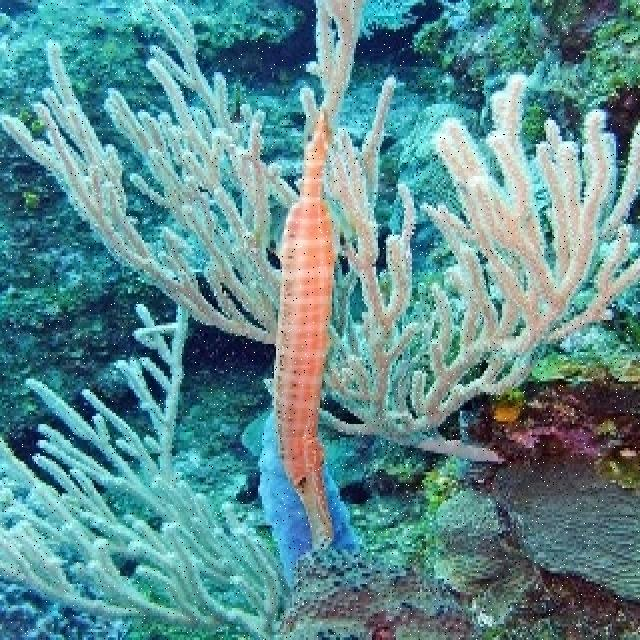fish: (274, 112, 337, 550)
reefs: (3, 1, 638, 463), (1, 302, 284, 637)
